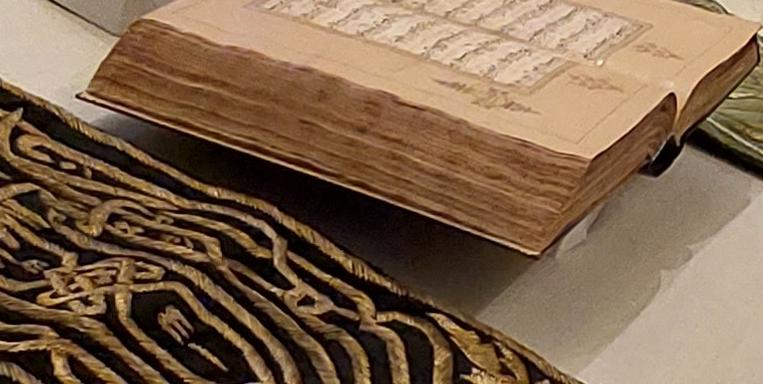The_HolyQuran: (99, 0, 761, 252)
